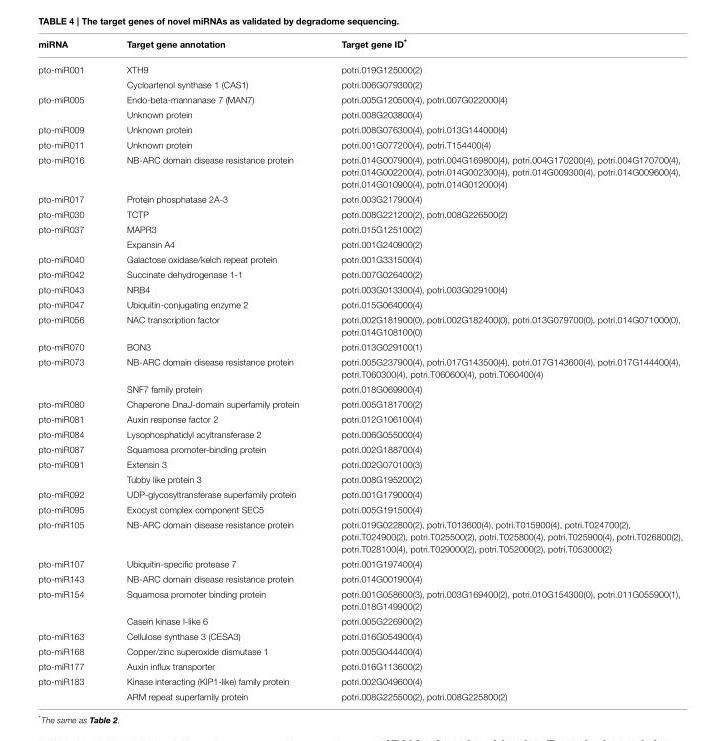table: (37, 37, 682, 701)
table column: (319, 37, 682, 701), (104, 37, 319, 701), (37, 37, 104, 701)
table column header: (37, 37, 682, 56)
table row: (37, 152, 682, 191), (37, 517, 682, 556), (37, 312, 682, 339), (37, 354, 682, 381), (37, 586, 682, 613), (37, 56, 682, 77), (37, 37, 682, 56), (37, 251, 682, 267), (37, 471, 682, 487), (37, 673, 682, 689), (37, 77, 682, 92), (37, 92, 682, 107), (37, 107, 682, 122), (37, 122, 682, 137), (37, 137, 682, 152), (37, 191, 682, 206), (37, 206, 682, 221), (37, 221, 682, 236), (37, 236, 682, 251), (37, 267, 682, 282), (37, 282, 682, 297), (37, 297, 682, 312), (37, 339, 682, 354), (37, 381, 682, 396), (37, 396, 682, 411), (37, 411, 682, 426), (37, 426, 682, 441), (37, 441, 682, 456), (37, 456, 682, 471), (37, 487, 682, 502), (37, 502, 682, 517), (37, 556, 682, 571), (37, 571, 682, 586), (37, 613, 682, 628), (37, 628, 682, 643), (37, 643, 682, 658), (37, 658, 682, 673), (37, 689, 682, 701)
table spanning cell: (37, 354, 104, 396), (37, 586, 104, 628), (37, 56, 104, 92), (37, 456, 104, 487), (37, 92, 104, 122), (37, 221, 104, 251), (37, 673, 104, 701)
